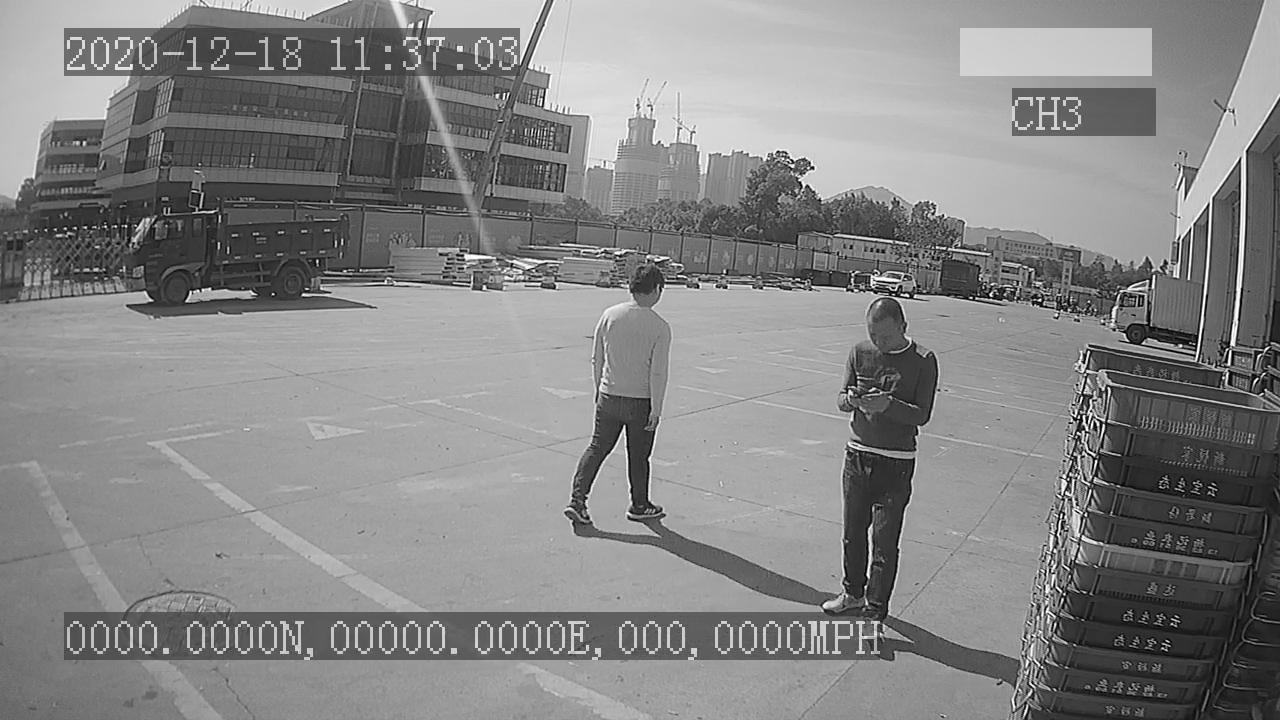person: (563, 263, 682, 534)
